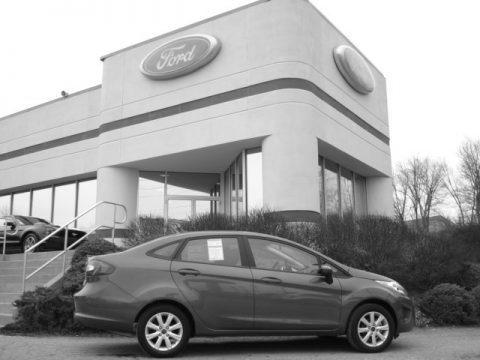car: (74, 231, 418, 360)
